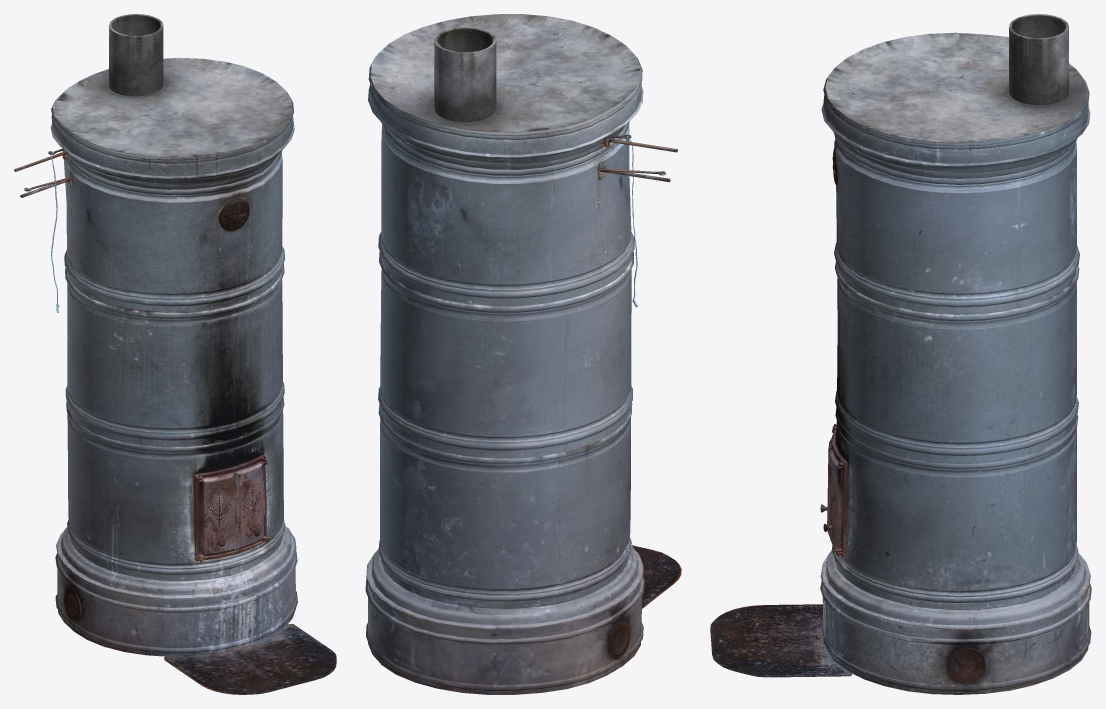
File: scandinavian_masonry_heater.glb
3 views of the same model, side by side, from view 1: azimuth 30°, elevation 25°; view 2: azimuth 150°, elevation 25°; view 3: azimuth 270°, elevation 25° (orthographic). The views are drawn at different scales.
Visible parts, largest first — view 1: scandinavian_masonry_heater; view 2: scandinavian_masonry_heater; view 3: scandinavian_masonry_heater.
Boxes of the visible parts, left/top/right/bottom form: scandinavian_masonry_heater: left=14, top=14, right=336, bottom=694; scandinavian_masonry_heater: left=365, top=14, right=681, bottom=694; scandinavian_masonry_heater: left=710, top=14, right=1091, bottom=694.
Bounding box in the file's own units: 1.17 × 2.36 × 1.34.
Materials: 1 (1 with a texture image).
